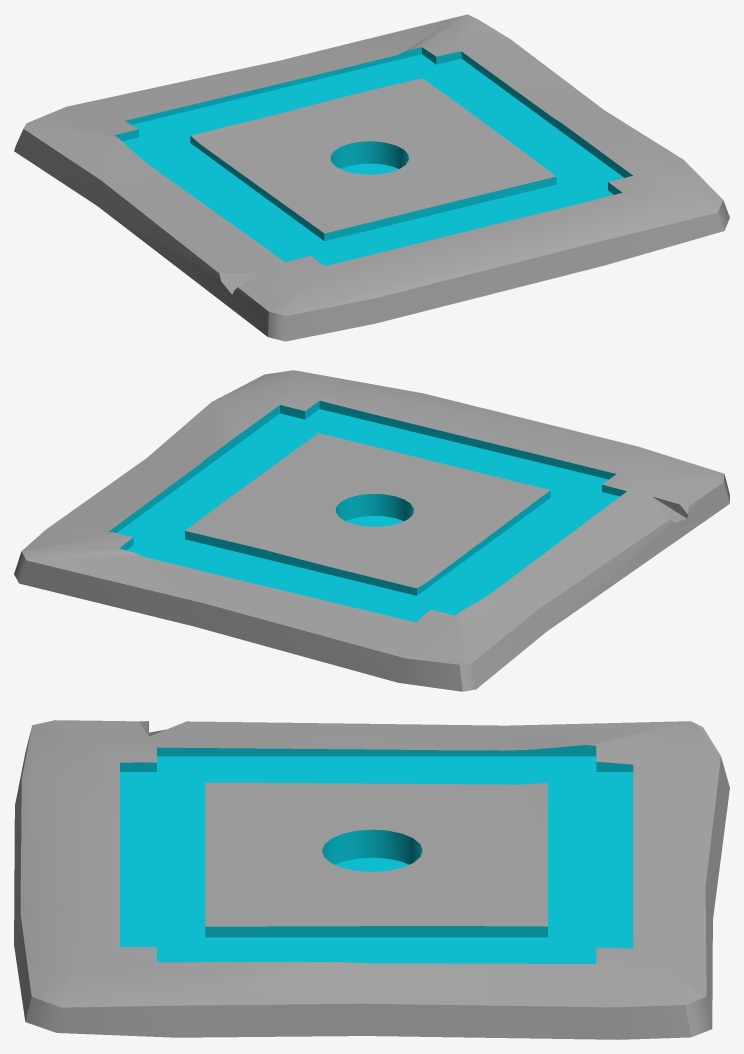
Rendered from dalle20.fbx.
3 views of the same model, one above another, from view 1: azimuth 30°, elevation 25°; view 2: azimuth 150°, elevation 25°; view 3: azimuth 270°, elevation 25° (orthographic). The views are drawn at different scales.
Visible parts, largest first — view 1: pCube4; view 2: pCube4; view 3: pCube4.
Boxes of the visible parts, box(x1,y1,x2,y2) form: pCube4: box(14, 14, 729, 341); pCube4: box(14, 370, 729, 691); pCube4: box(14, 720, 729, 1039).
Bounding box in the file's own units: 6.99 × 0.4394 × 7.18.
